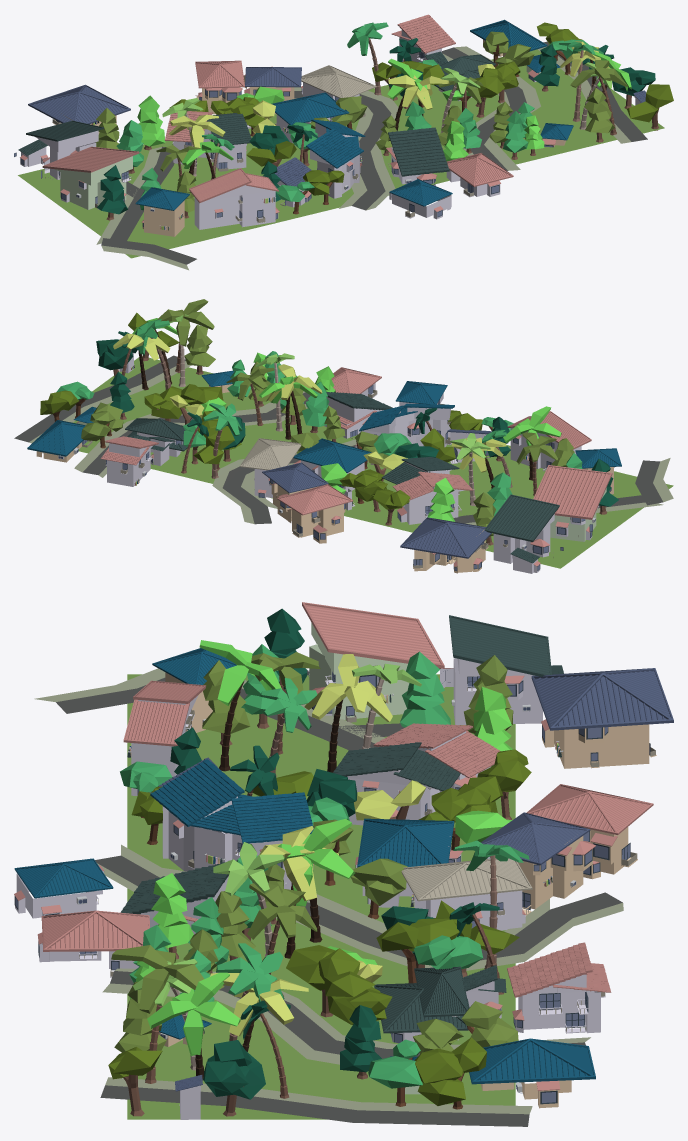
File: QC_Env6.fbx
3 renders of one model, top to bottom at view 1: azimuth 30°, elevation 25°; view 2: azimuth 150°, elevation 25°; view 3: azimuth 270°, elevation 25°, orthographic. The views are drawn at different scales.
Visible parts, largest first — view 1: QC_Env6; view 2: QC_Env6; view 3: QC_Env6.
Part boxes in pixels (bbox=[...]): QC_Env6: bbox=[14, 14, 673, 270]; QC_Env6: bbox=[14, 299, 673, 573]; QC_Env6: bbox=[14, 602, 673, 1126].
Size of the model in its own units: 8467 by 1161 by 5011.
